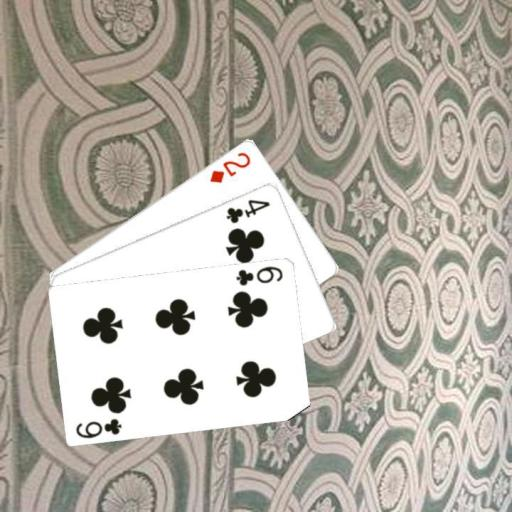2D: (207, 148, 253, 184)
4C: (223, 196, 272, 225)
6C: (234, 263, 285, 288), (73, 415, 124, 440)
